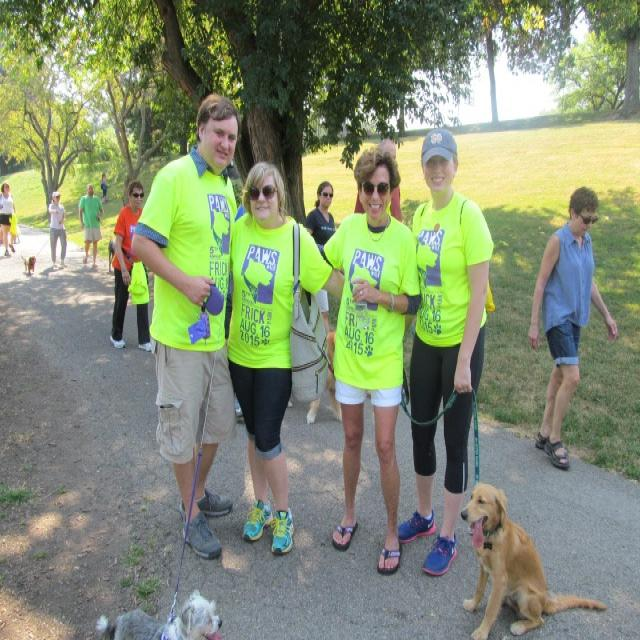body: (129, 91, 241, 561), (222, 159, 345, 557), (392, 125, 496, 576), (319, 148, 422, 577), (525, 184, 621, 469), (109, 179, 154, 353), (353, 136, 402, 223), (302, 179, 337, 252), (77, 181, 104, 268), (47, 191, 68, 268), (0, 180, 18, 256), (0, 223, 20, 245), (100, 172, 109, 204), (364, 389, 372, 403)
